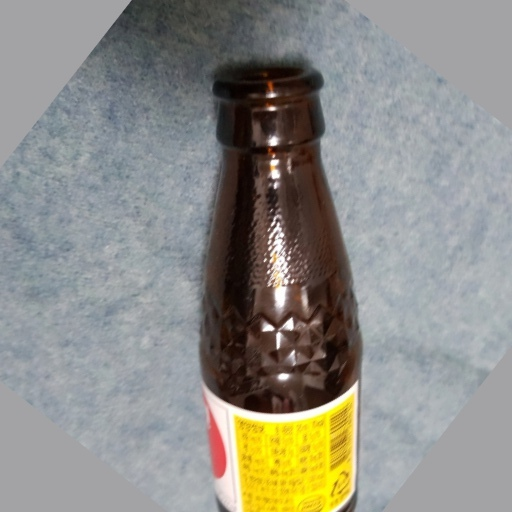Glass_3: (200, 66, 367, 512)
